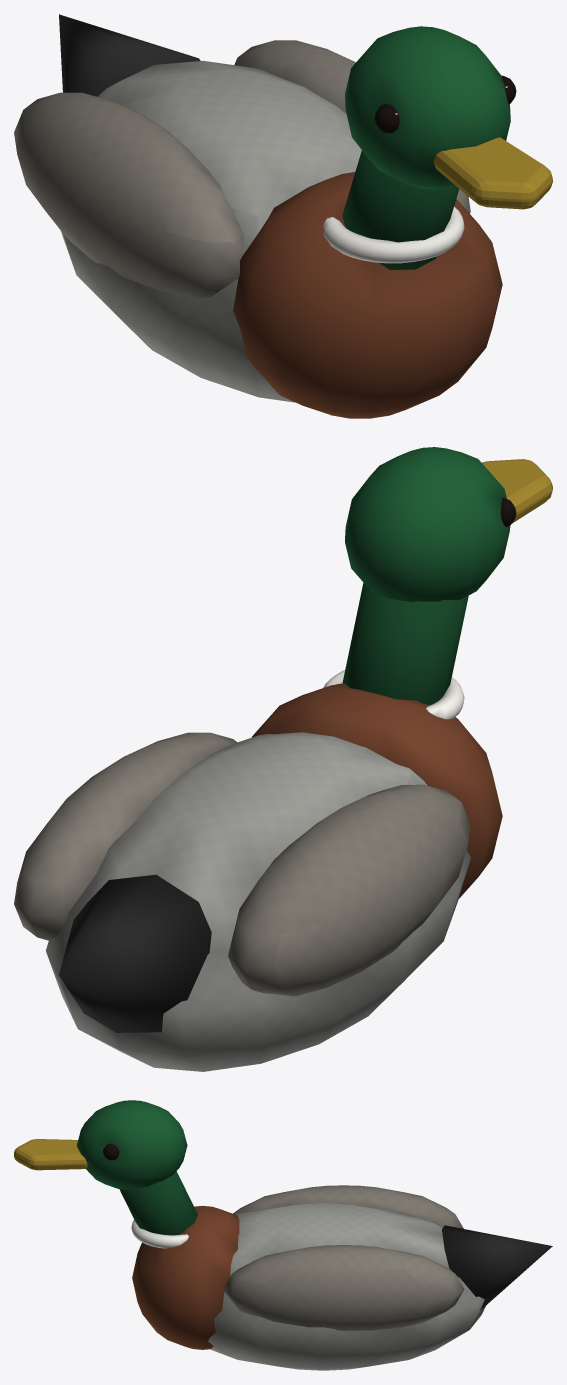
Rendered from duck.glb.
The picture shows the model from 3 angles, top to bottom: view 1: azimuth 30°, elevation 25°; view 2: azimuth 150°, elevation 25°; view 3: azimuth 270°, elevation 25°; orthographic projection. The views are drawn at different scales.
Parts seen in each view (by area): view 1: duck_mesh, head_mesh, tail_mesh; view 2: duck_mesh, head_mesh, tail_mesh; view 3: duck_mesh, head_mesh, tail_mesh.
Boxes of the visible parts, x1=… form: duck_mesh: x1=14, y1=40, x2=502, y2=418; head_mesh: x1=323, y1=26, x2=552, y2=269; tail_mesh: x1=59, y1=14, x2=200, y2=96; duck_mesh: x1=14, y1=683, x2=502, y2=1071; head_mesh: x1=323, y1=447, x2=552, y2=719; tail_mesh: x1=59, y1=874, x2=211, y2=1032; duck_mesh: x1=132, y1=1185, x2=485, y2=1370; head_mesh: x1=14, y1=1100, x2=197, y2=1248; tail_mesh: x1=442, y1=1225, x2=552, y2=1310.
Bounding box in the file's own units: 0.22 × 0.28 × 0.535.
10 materials, 2 textured.
